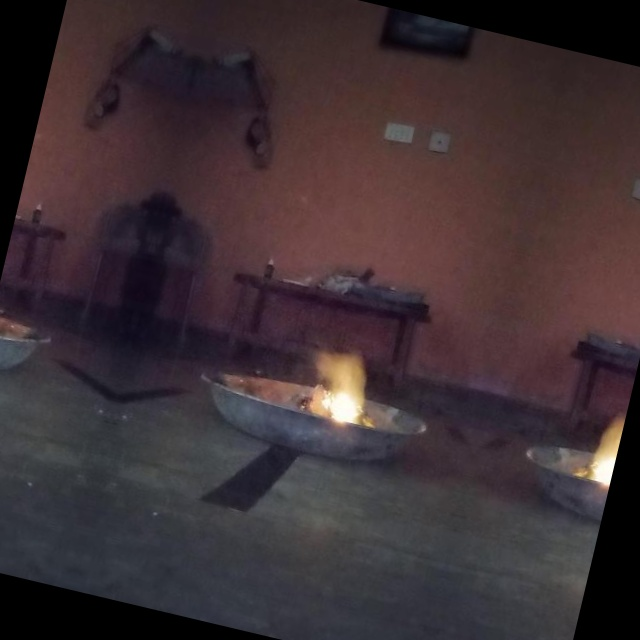fire: (259, 316, 411, 461), (553, 386, 631, 532)
